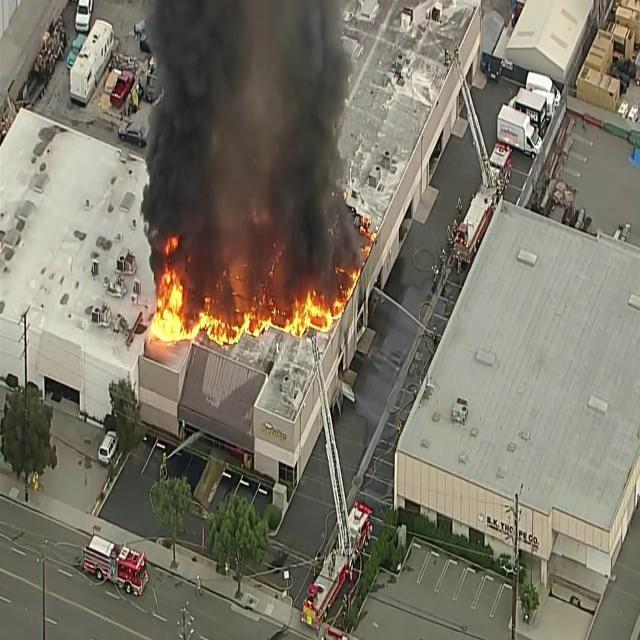Fire: (195, 303, 266, 342), (149, 273, 181, 355), (290, 298, 341, 337)
Smoke: (270, 5, 340, 262), (150, 8, 217, 239)
